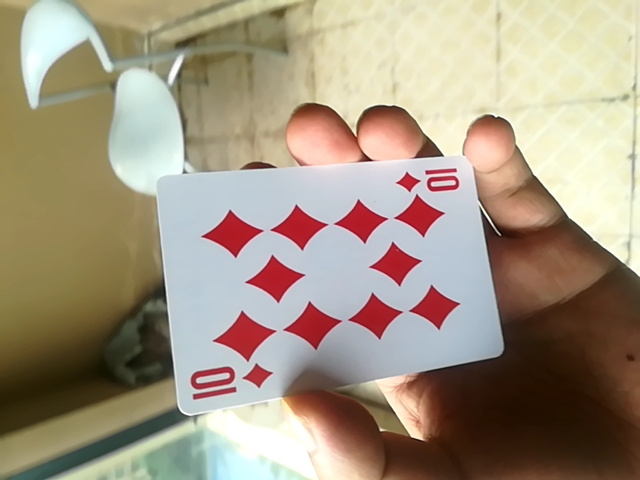fk 10: (151, 148, 498, 417)
